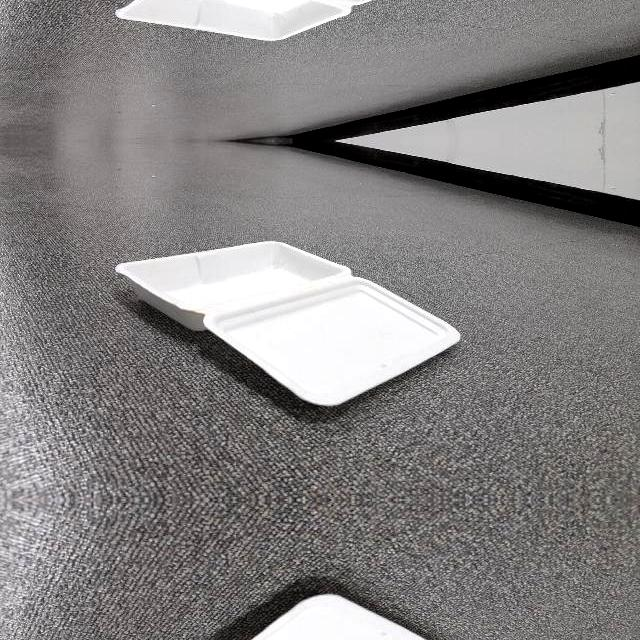Styrofoam: (114, 239, 462, 407), (115, 240, 460, 405), (114, 591, 461, 640), (114, 0, 461, 41), (115, 0, 370, 40)
